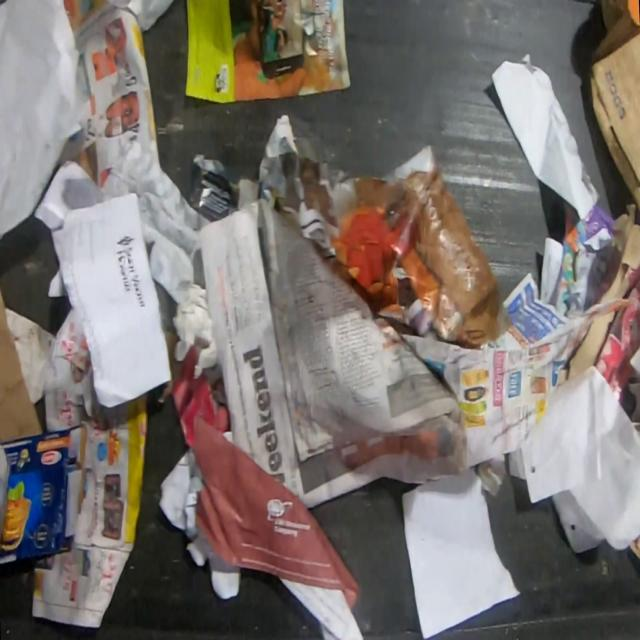cardboard: (565, 202, 640, 406), (0, 420, 87, 564), (588, 0, 640, 215), (0, 281, 44, 444)
